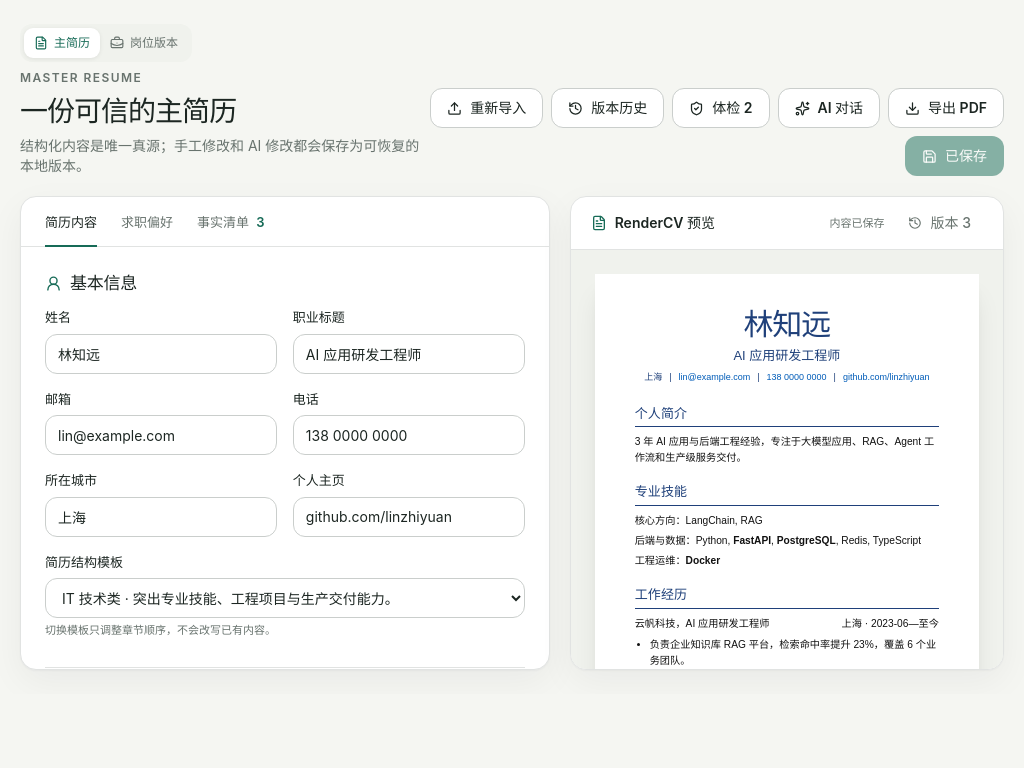
Scenario: resume version synchronization › preserves local edits and blocks stale saves when a newer version arrives
Replace the text in the field labelled "职业标题" with "尚未保存的本地标题" at (409, 354), box [293,334,525,374]
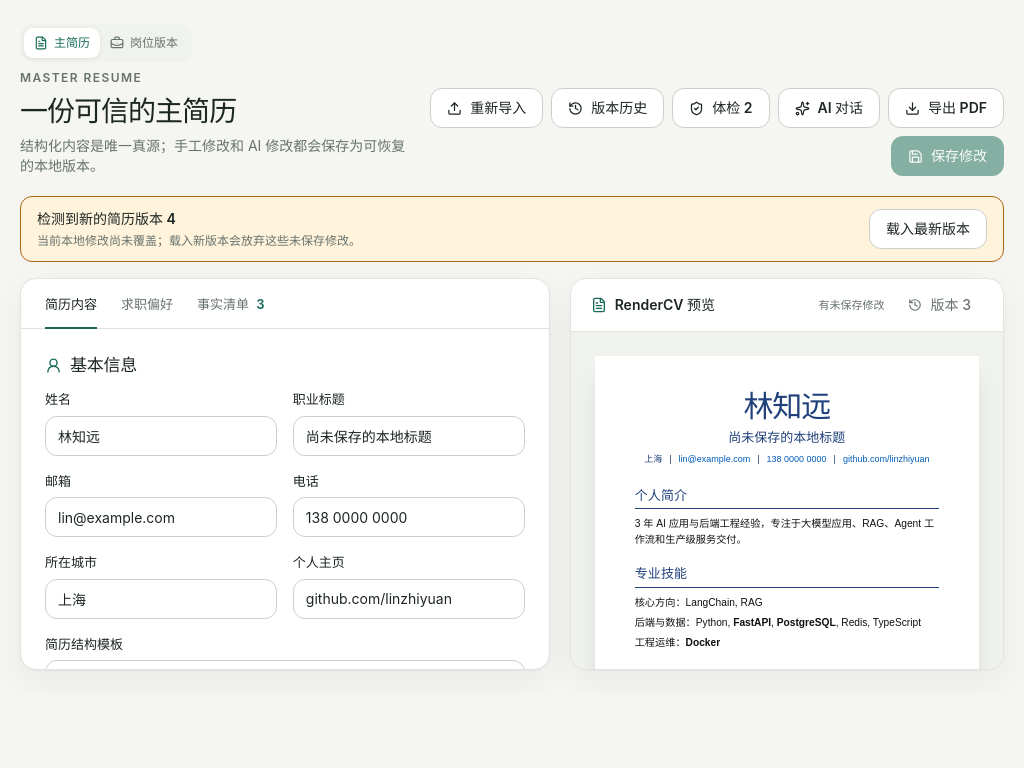
expect the button "保存修改" is disabled: met, box [891,136,1004,176]
expect the message shows "检测到新的简历版本": met, box [37,210,176,227]
Click the button "载入最新版本".
click(928, 229)  # box [869,209,987,249]
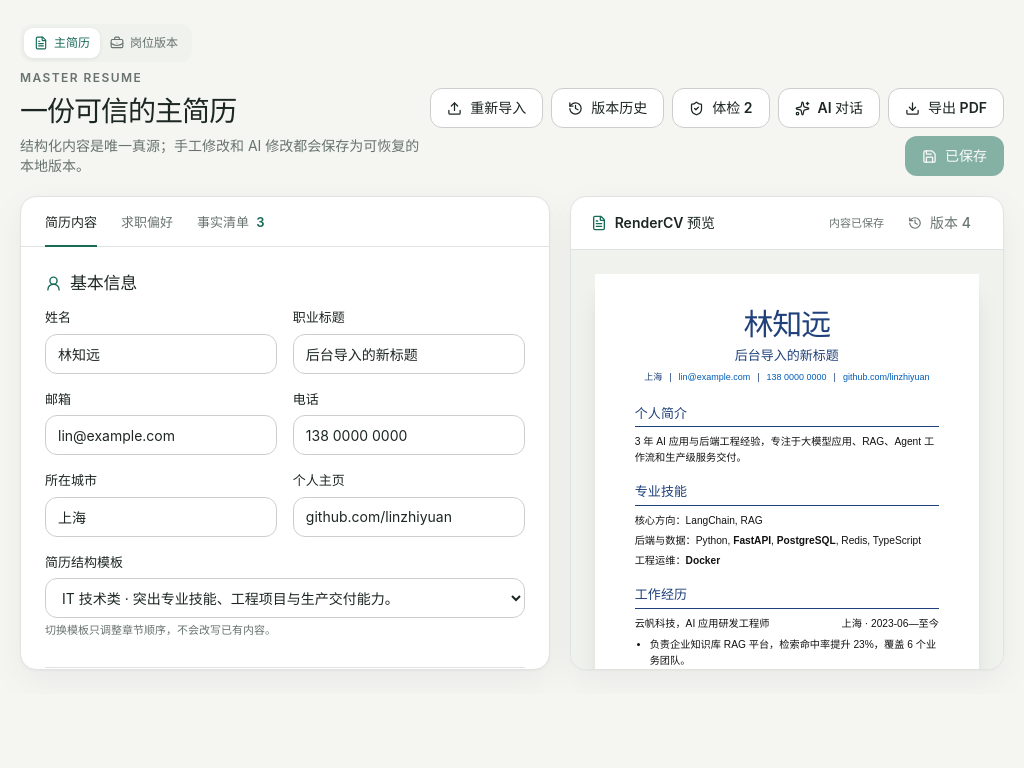
expect the field labelled "职业标题" holds "后台导入的新标题": met, box [293,334,525,374]
